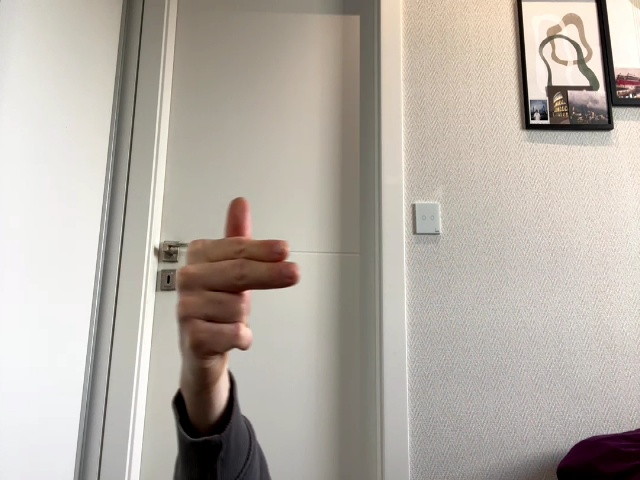N: (174, 197, 300, 376)
